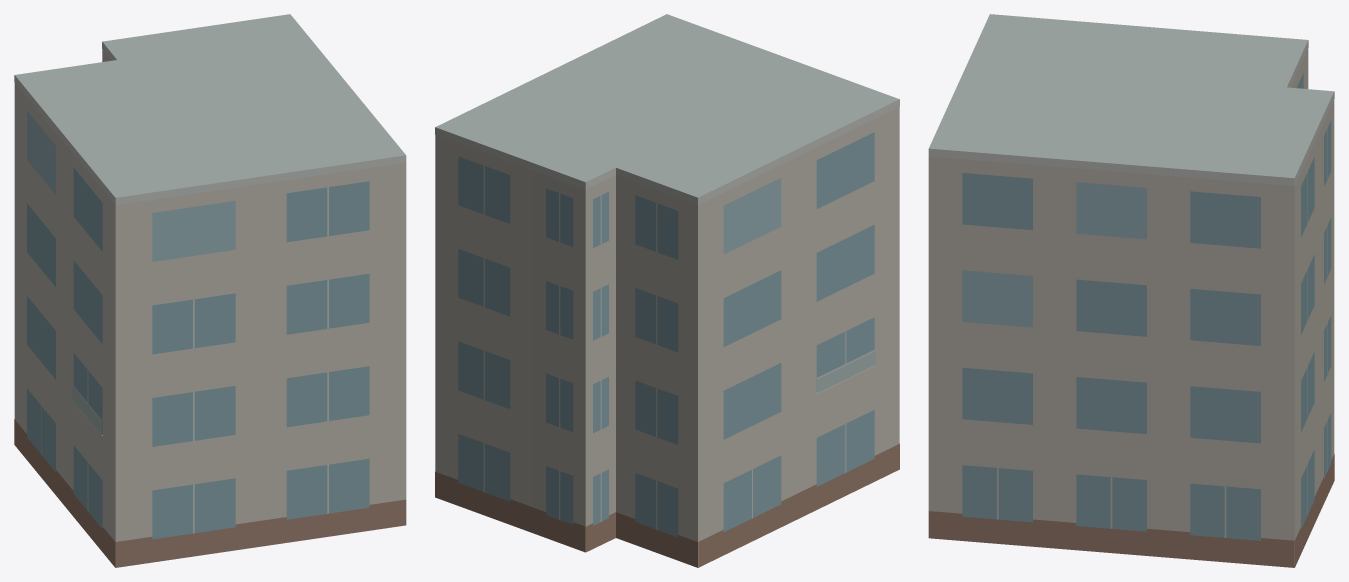
The model's file is residential-af40f9e4-f5e2-4cc0-8b68-29356b55b431.glb.
3 renders of one model, left to right at view 1: azimuth 30°, elevation 25°; view 2: azimuth 150°, elevation 25°; view 3: azimuth 270°, elevation 25°, orthographic. The views are drawn at different scales.
Visible parts, largest first — view 1: residential-af40f9e4-f5e2-4cc0-8b68-29356b55b431.tmp; view 2: residential-af40f9e4-f5e2-4cc0-8b68-29356b55b431.tmp; view 3: residential-af40f9e4-f5e2-4cc0-8b68-29356b55b431.tmp.
Boxes of the visible parts, x1,y1,x2,y2 form: residential-af40f9e4-f5e2-4cc0-8b68-29356b55b431.tmp: (14, 14, 406, 567); residential-af40f9e4-f5e2-4cc0-8b68-29356b55b431.tmp: (435, 14, 899, 567); residential-af40f9e4-f5e2-4cc0-8b68-29356b55b431.tmp: (928, 14, 1334, 567).
Size of the model in its own units: 11.04 by 12.2 by 11.52.
